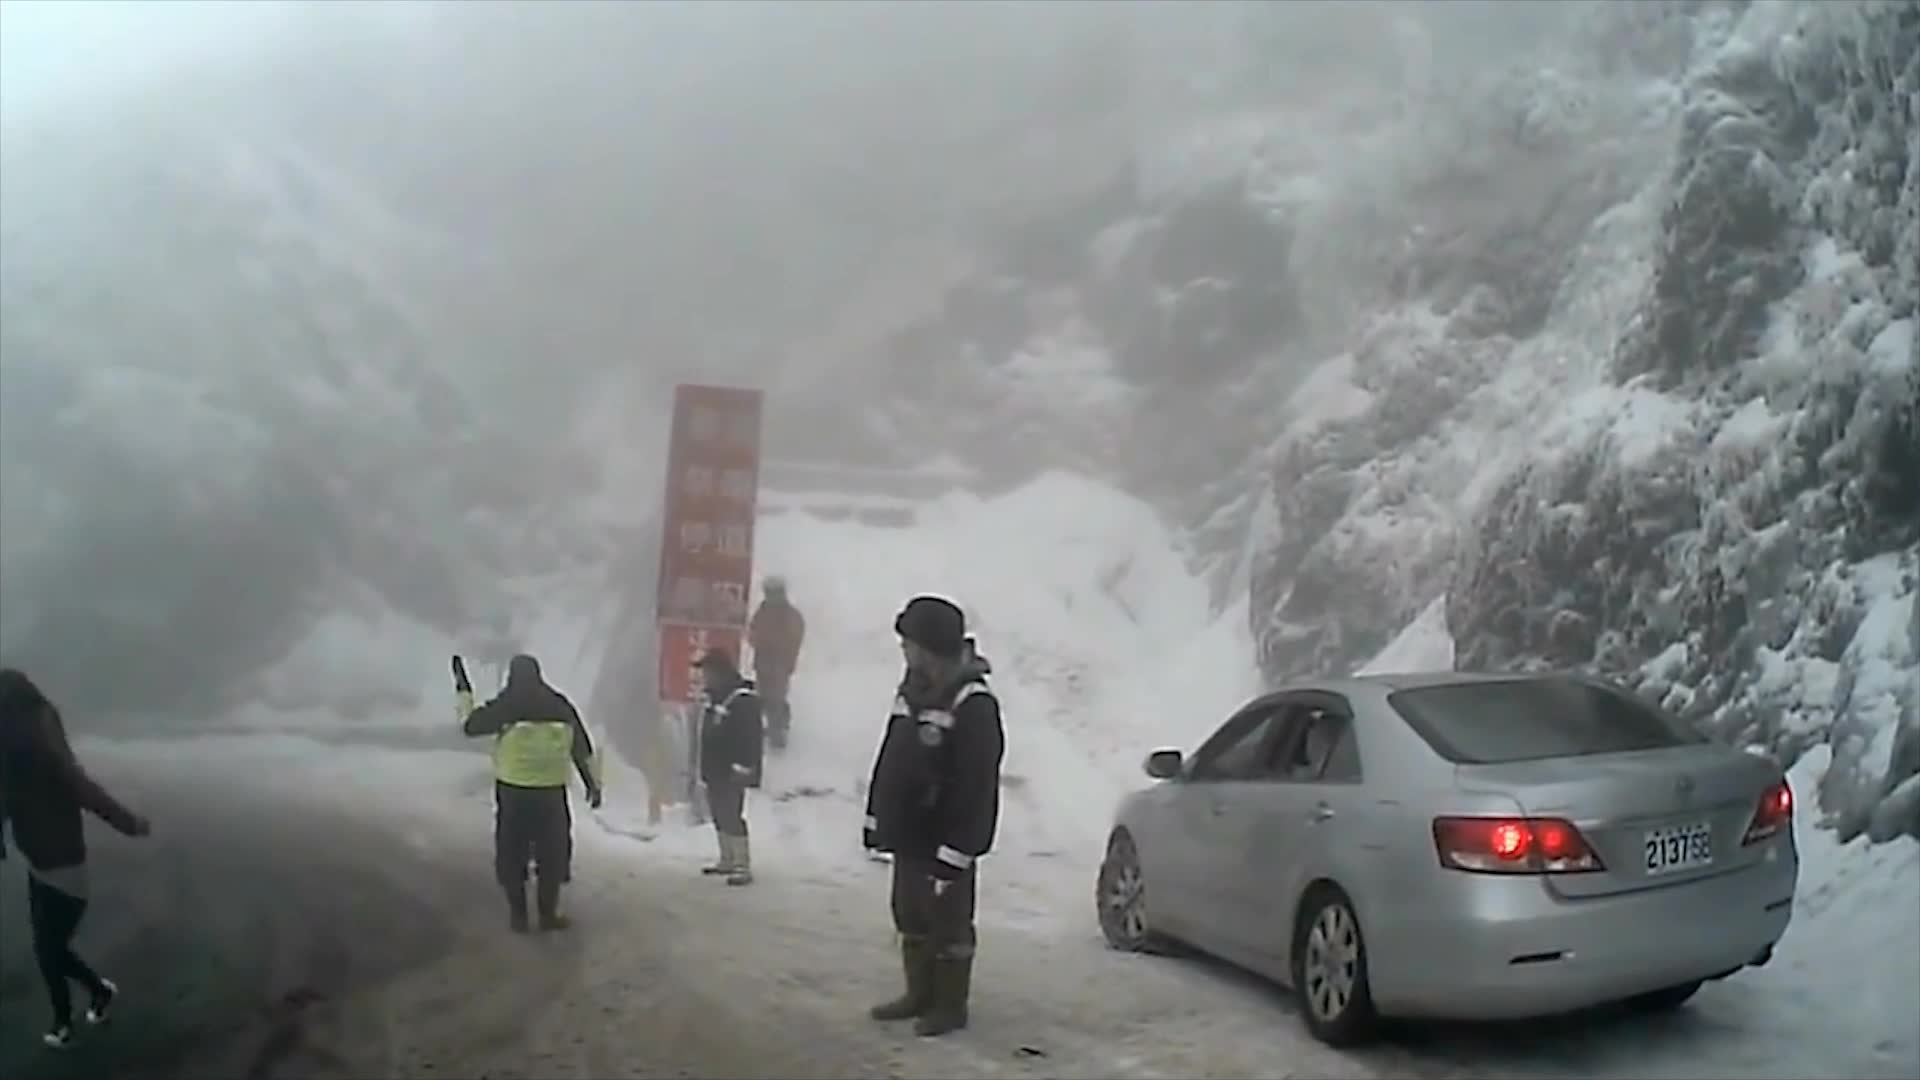pedestrian: (858, 599, 1004, 1040), (1, 665, 148, 1060), (437, 663, 597, 937), (686, 652, 768, 892), (743, 572, 810, 750)
vehicle: (1094, 665, 1798, 1043)
